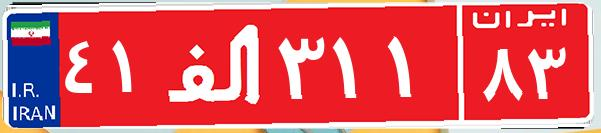1: (385, 28, 445, 110), (330, 28, 385, 110), (110, 28, 158, 105)
3: (273, 28, 330, 110), (525, 38, 570, 115)
4: (57, 26, 110, 107)
8: (475, 38, 525, 113)
الف: (158, 15, 273, 115)
